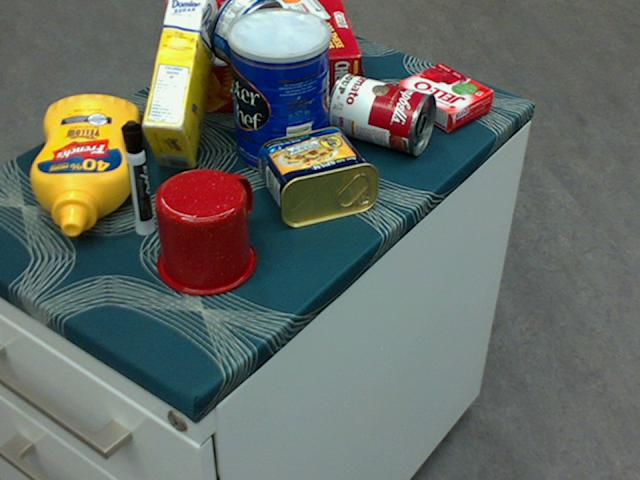cracker_box: (167, 0, 360, 115)
gelatin_box: (394, 64, 493, 131)
large_marker: (119, 120, 155, 234)
master_chef_can: (227, 7, 330, 175)
mug: (154, 167, 257, 295)
mustard_bottle: (29, 95, 139, 235)
potted_meat_can: (256, 124, 379, 228)
sugar_box: (142, 0, 220, 169)
tomato_soup_can: (326, 72, 437, 154)
tuna_fish_can: (209, 0, 286, 70)
